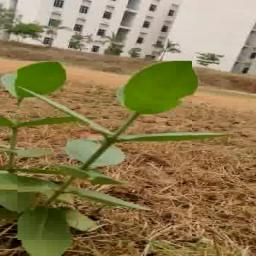CALOTROPIS: (18, 60, 193, 240)
